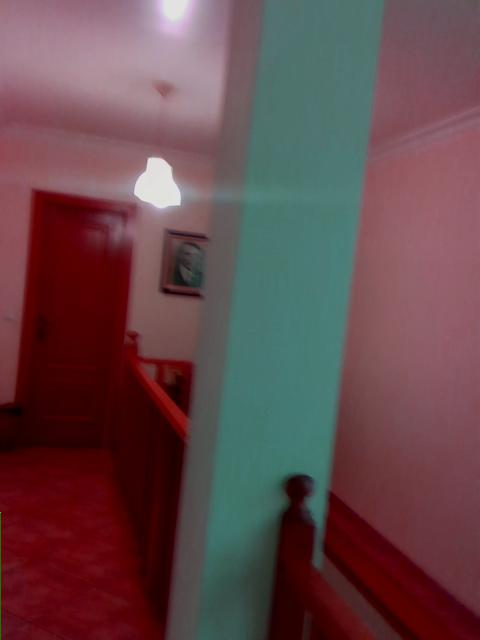closed_door: (17, 186, 137, 444)
